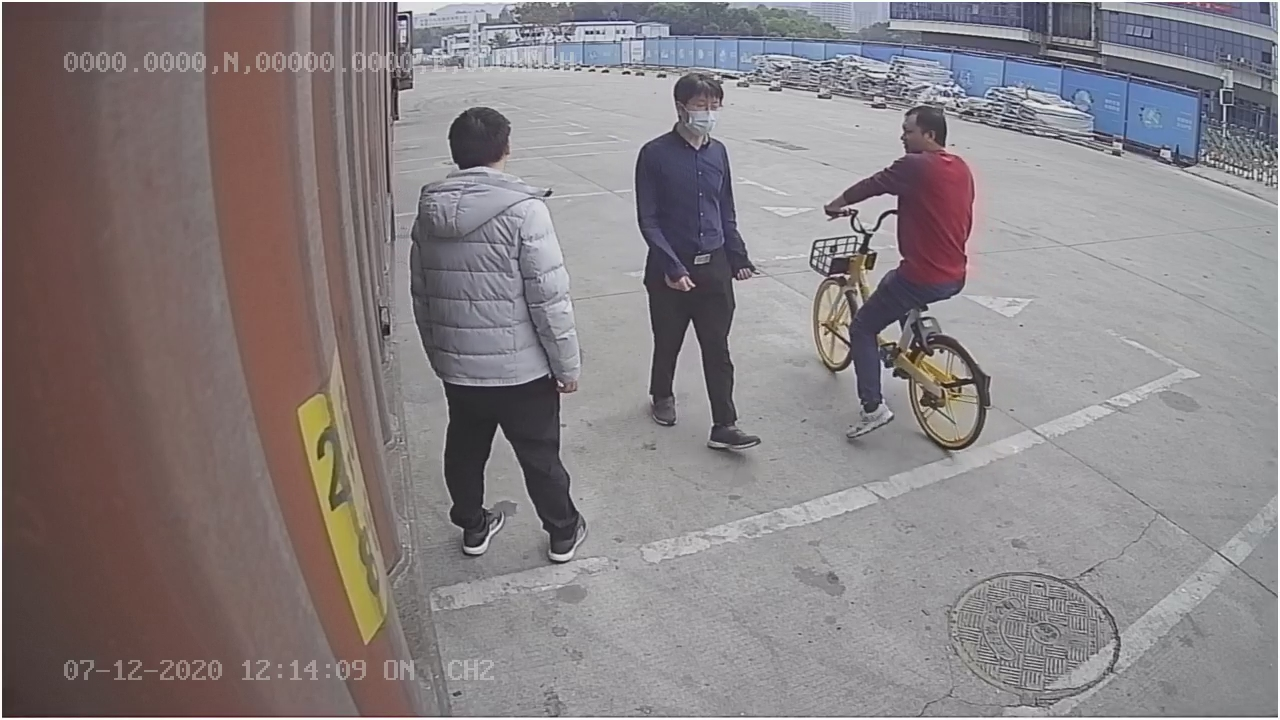person: (629, 67, 762, 460)
